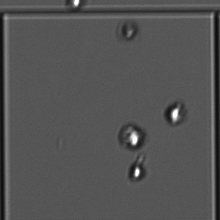Dead Cell: (115, 18, 139, 41)
Living Cell: (119, 122, 146, 151), (165, 100, 187, 127), (126, 161, 148, 182), (64, 1, 85, 11)
